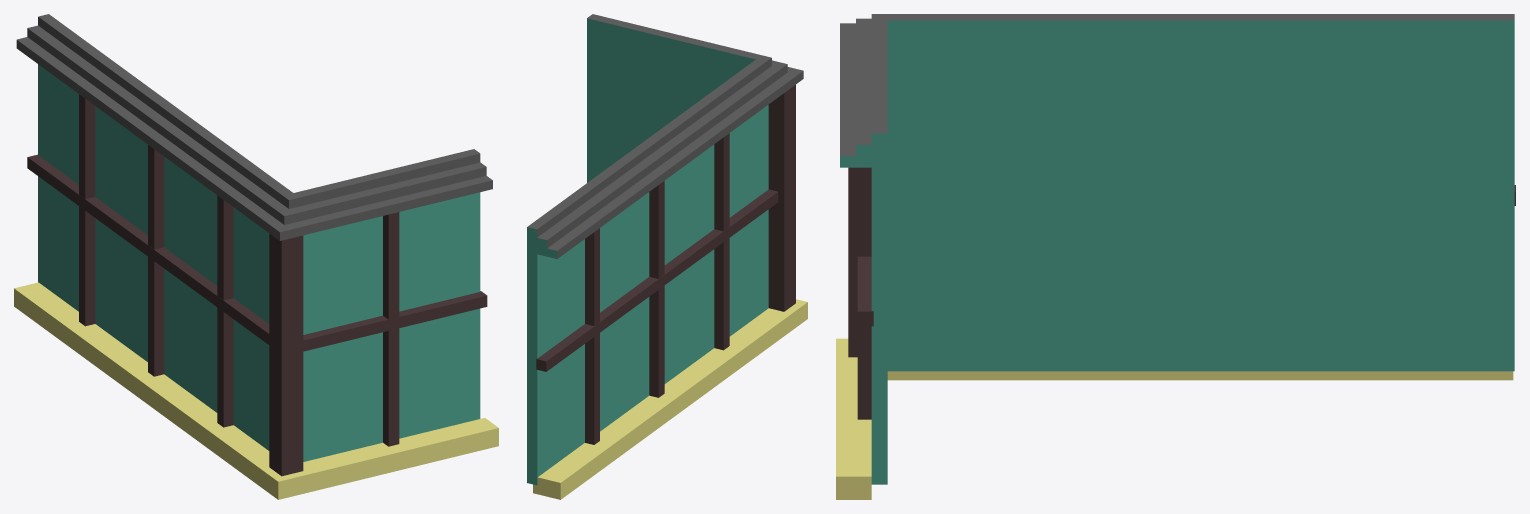
Rendered from window.FBX.
The picture shows the model from 3 angles, left to right: view 1: azimuth 30°, elevation 25°; view 2: azimuth 150°, elevation 25°; view 3: azimuth 270°, elevation 25°; orthographic projection. The views are drawn at different scales.
Parts seen in each view (by area): view 1: window; view 2: window; view 3: window.
Part boxes in pixels (x1,y1,x2,y2): window: [14, 14, 498, 499]; window: [527, 14, 807, 499]; window: [836, 14, 1515, 499].
Bounding box in the file's own units: 41.04 × 50.39 × 85.43.
Materials: 1 (1 with a texture image).
